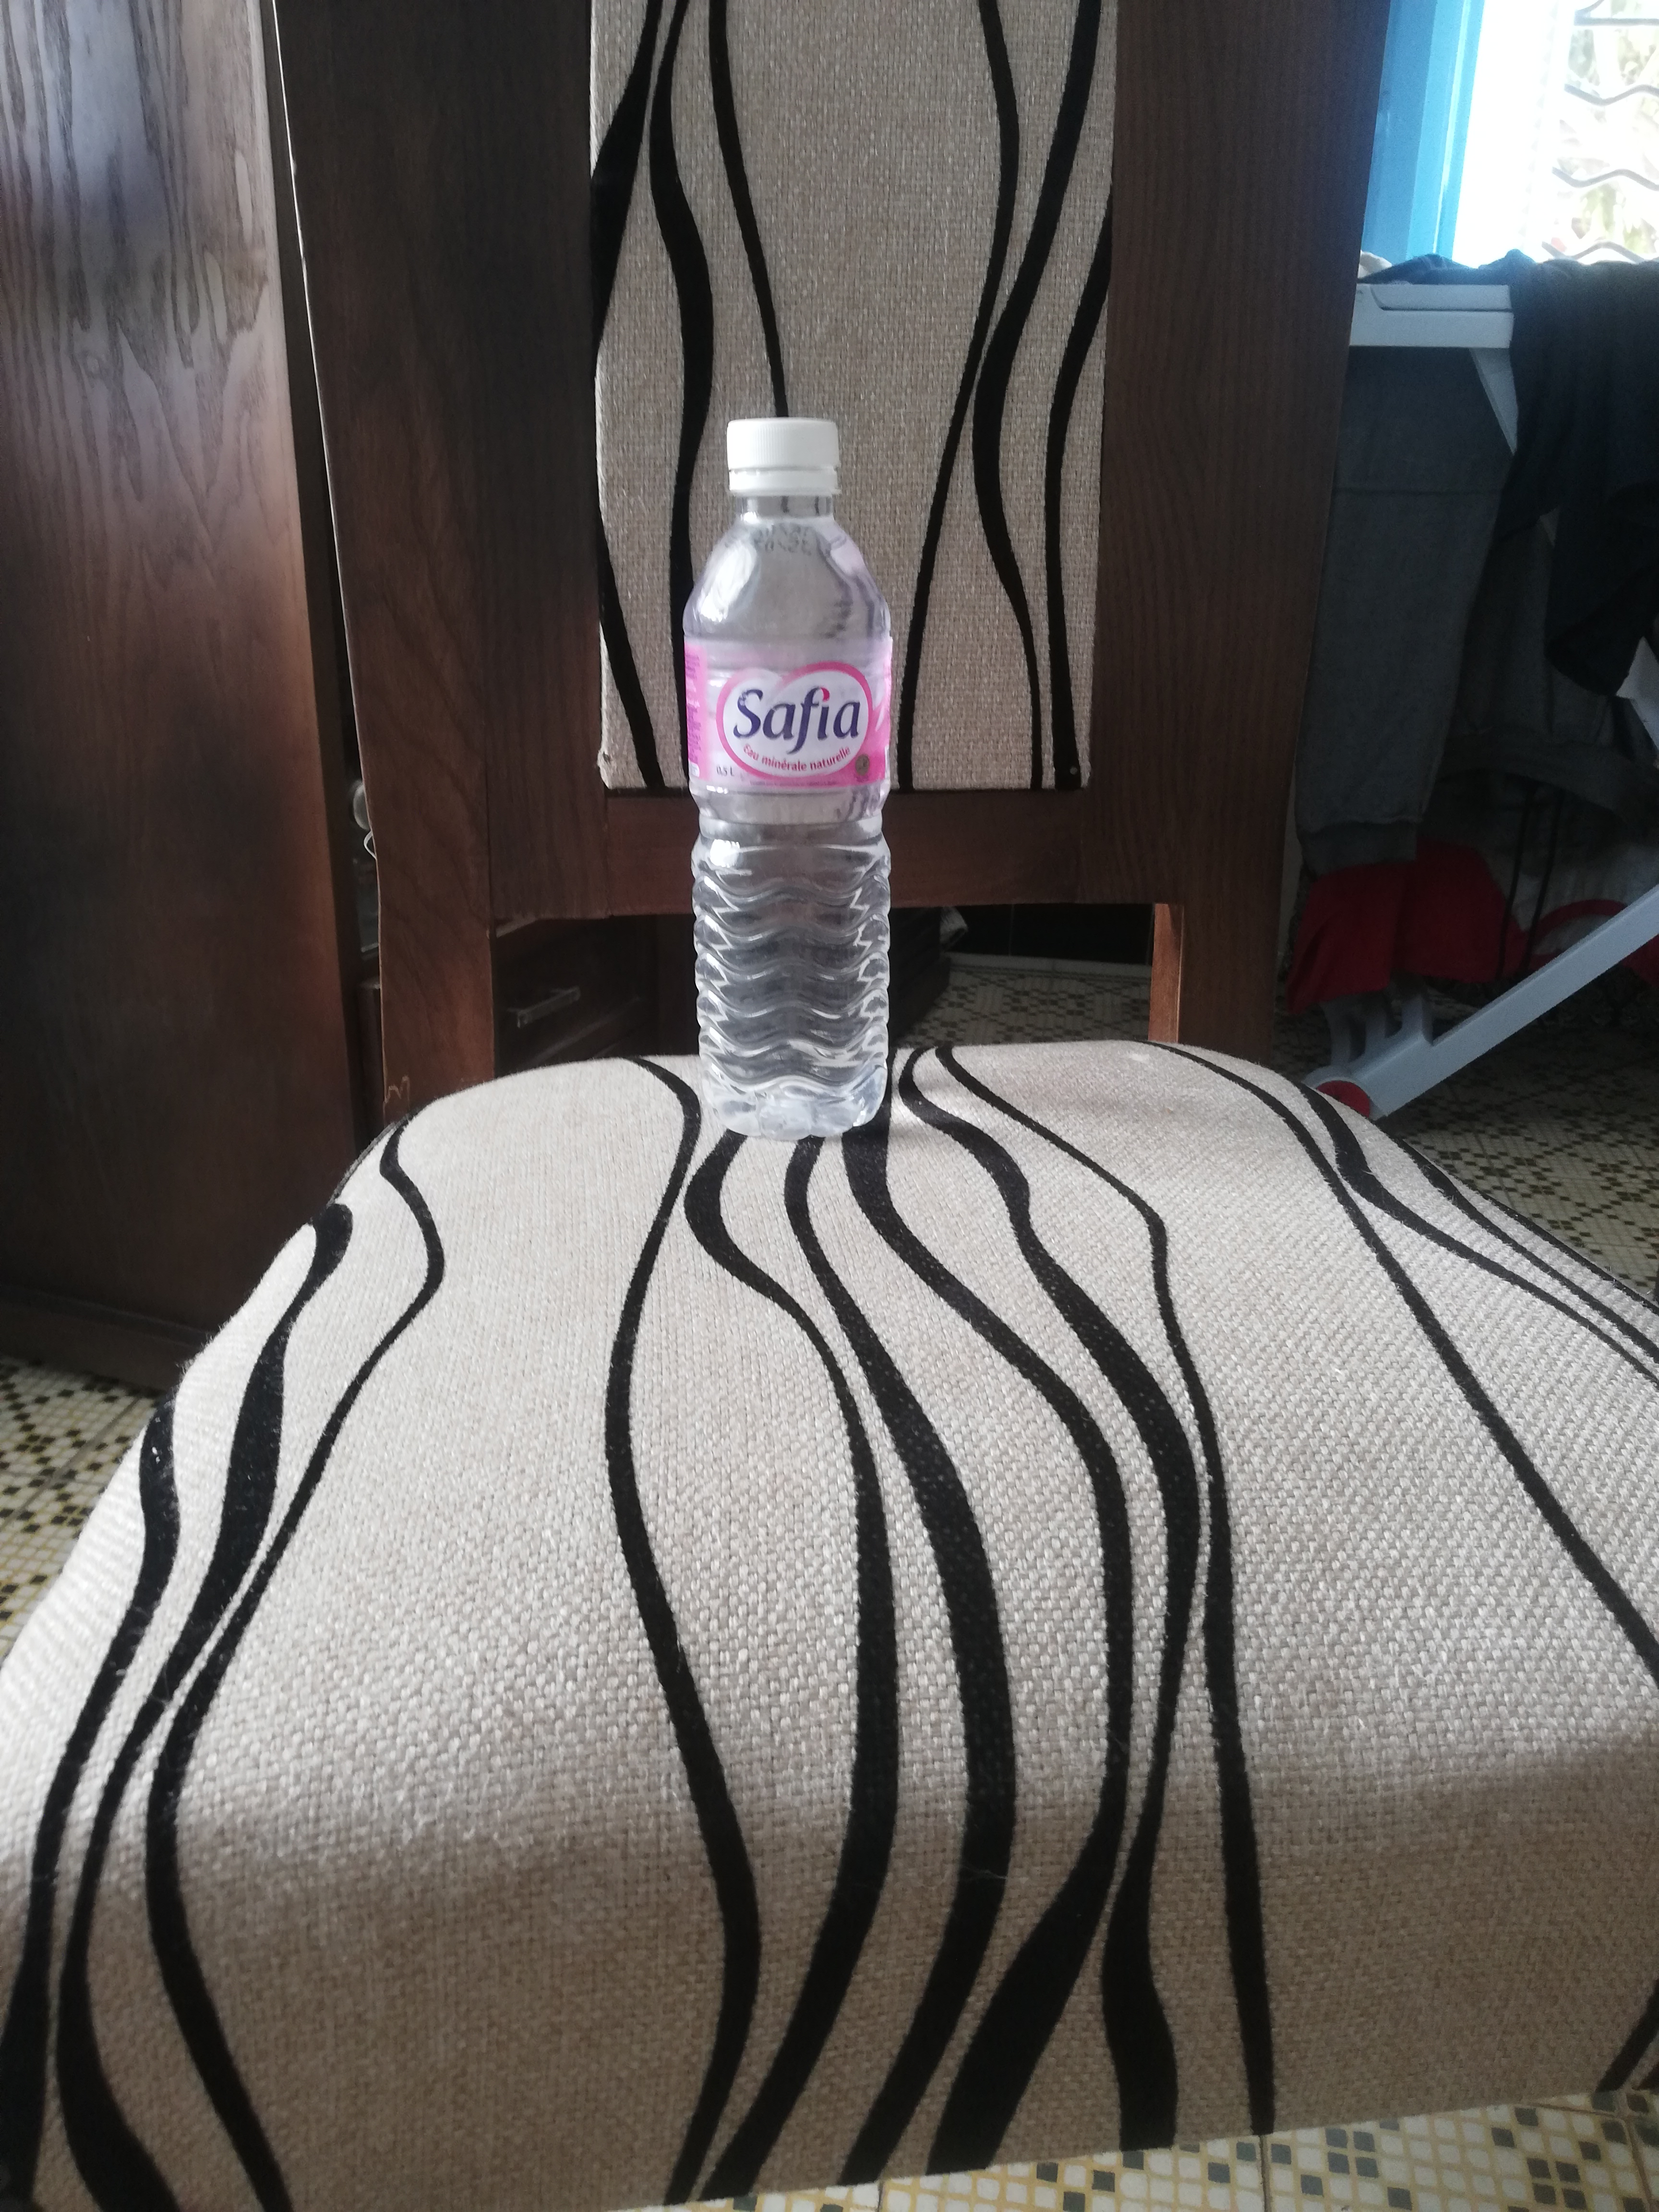Eau safia: (671, 409, 897, 1137)
